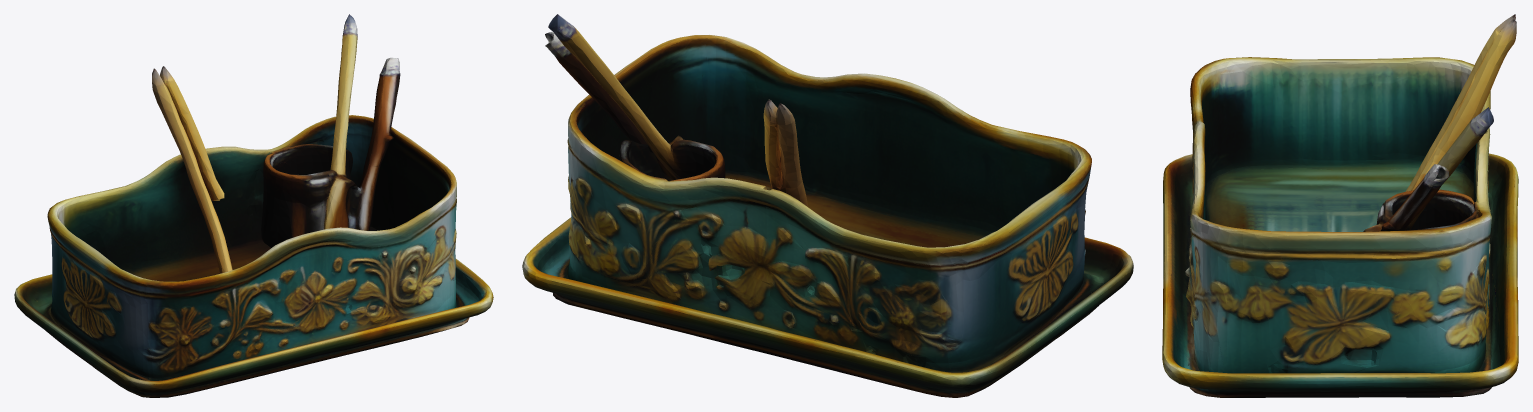
The model's file is ceramic-desk-organizer-vintage.jpeg.glb.
3 renders of one model, left to right at view 1: azimuth 30°, elevation 25°; view 2: azimuth 150°, elevation 25°; view 3: azimuth 270°, elevation 25°, orthographic. The views are drawn at different scales.
Parts seen in each view (by area): view 1: world; view 2: world; view 3: world.
Part boxes in pixels (bbox=[...]): world: bbox=[14, 14, 493, 397]; world: bbox=[522, 14, 1133, 397]; world: bbox=[1162, 14, 1518, 397].
Bounding box in the file's own units: 0.996 × 0.6013 × 0.6495.
1 material, 1 textured.
